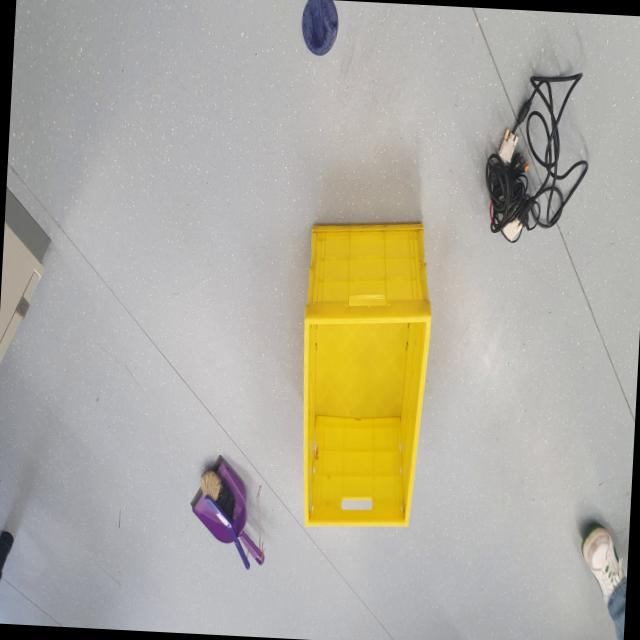box: (288, 216, 442, 555)
